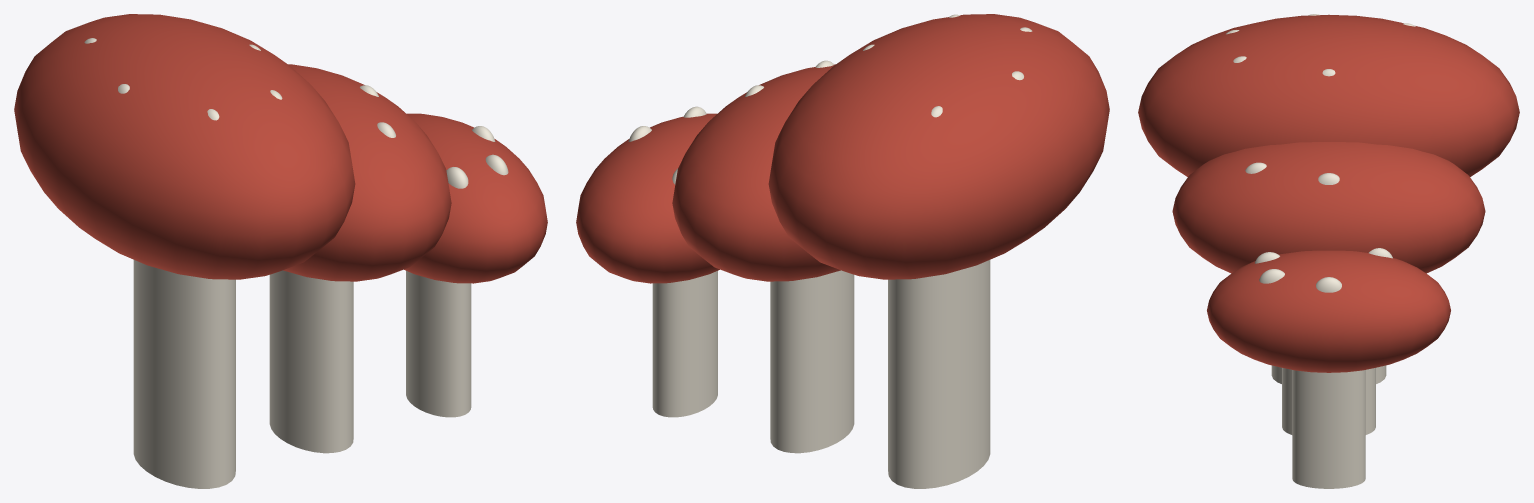
The model's file is wp-champignons-forestiers.glb.
3 renders of one model, left to right at view 1: azimuth 30°, elevation 25°; view 2: azimuth 150°, elevation 25°; view 3: azimuth 270°, elevation 25°, orthographic. The views are drawn at different scales.
Visible parts, largest first — view 1: wp-champignons-forestiers; view 2: wp-champignons-forestiers; view 3: wp-champignons-forestiers.
Part boxes in pixels (<box>): wp-champignons-forestiers: <box>14,14,547,488</box>; wp-champignons-forestiers: <box>576,14,1109,488</box>; wp-champignons-forestiers: <box>1138,14,1519,488</box>.
Size of the model in its own units: 0.35 by 0.3 by 0.3.
